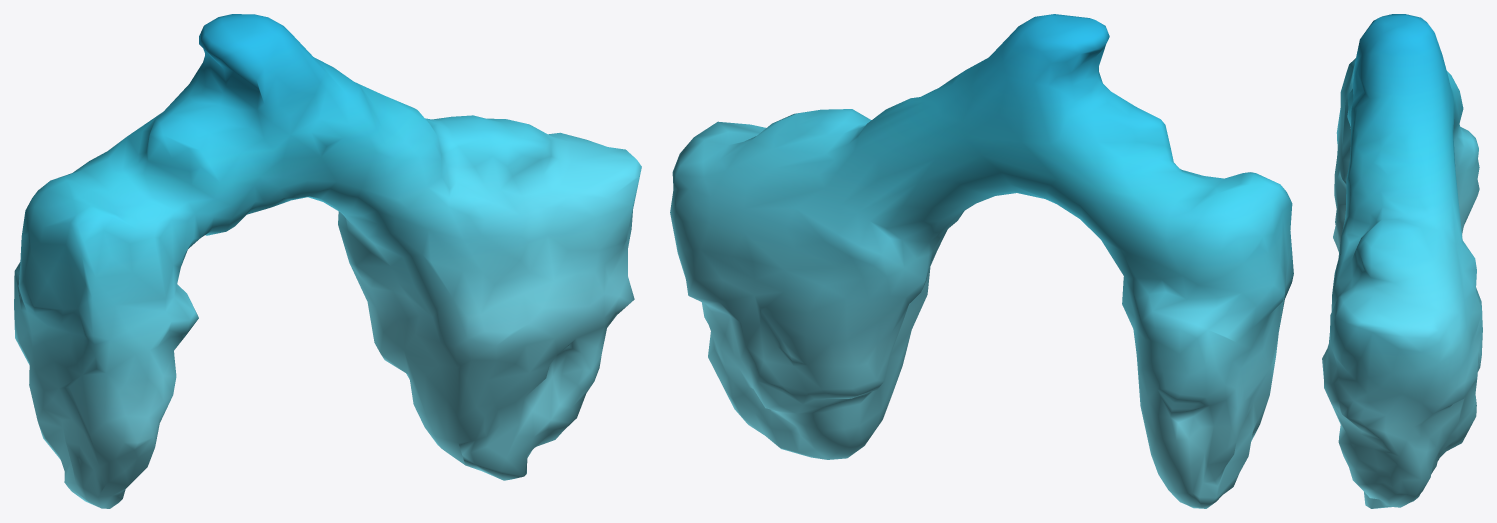
The model's file is iceberg_005.fbx.
The picture shows the model from 3 angles, left to right: view 1: azimuth 30°, elevation 25°; view 2: azimuth 150°, elevation 25°; view 3: azimuth 270°, elevation 25°; orthographic projection. The views are drawn at different scales.
Visible parts, largest first — view 1: iceberg_005; view 2: iceberg_005; view 3: iceberg_005.
Part boxes in pixels (x1=…): iceberg_005: x1=14, y1=14, x2=641, y2=508; iceberg_005: x1=670, y1=14, x2=1293, y2=508; iceberg_005: x1=1322, y1=14, x2=1482, y2=508.
Size of the model in its own units: 4279 by 1298 by 3484.
